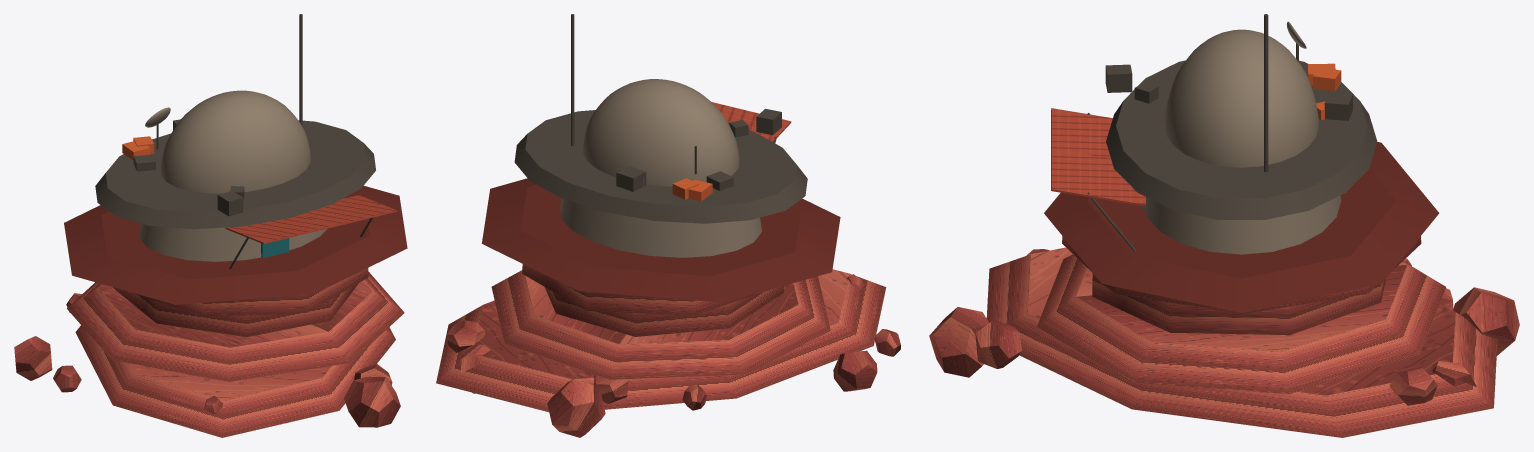
Rendered from canyon-raider-dome-outpost-v1.glb.
The picture shows the model from 3 angles, left to right: view 1: azimuth 30°, elevation 25°; view 2: azimuth 150°, elevation 25°; view 3: azimuth 270°, elevation 25°; orthographic projection. The views are drawn at different scales.
Visible parts, largest first — view 1: Canyon Raider Dome Outpost; view 2: Canyon Raider Dome Outpost; view 3: Canyon Raider Dome Outpost.
Boxes of the visible parts, left/top/right/bottom form: Canyon Raider Dome Outpost: left=14, top=14, right=407, bottom=437; Canyon Raider Dome Outpost: left=436, top=14, right=900, bottom=437; Canyon Raider Dome Outpost: left=929, top=14, right=1519, bottom=437.
Size of the model in its own units: 31.16 by 24.99 by 33.85.
8 materials, 2 textured.
